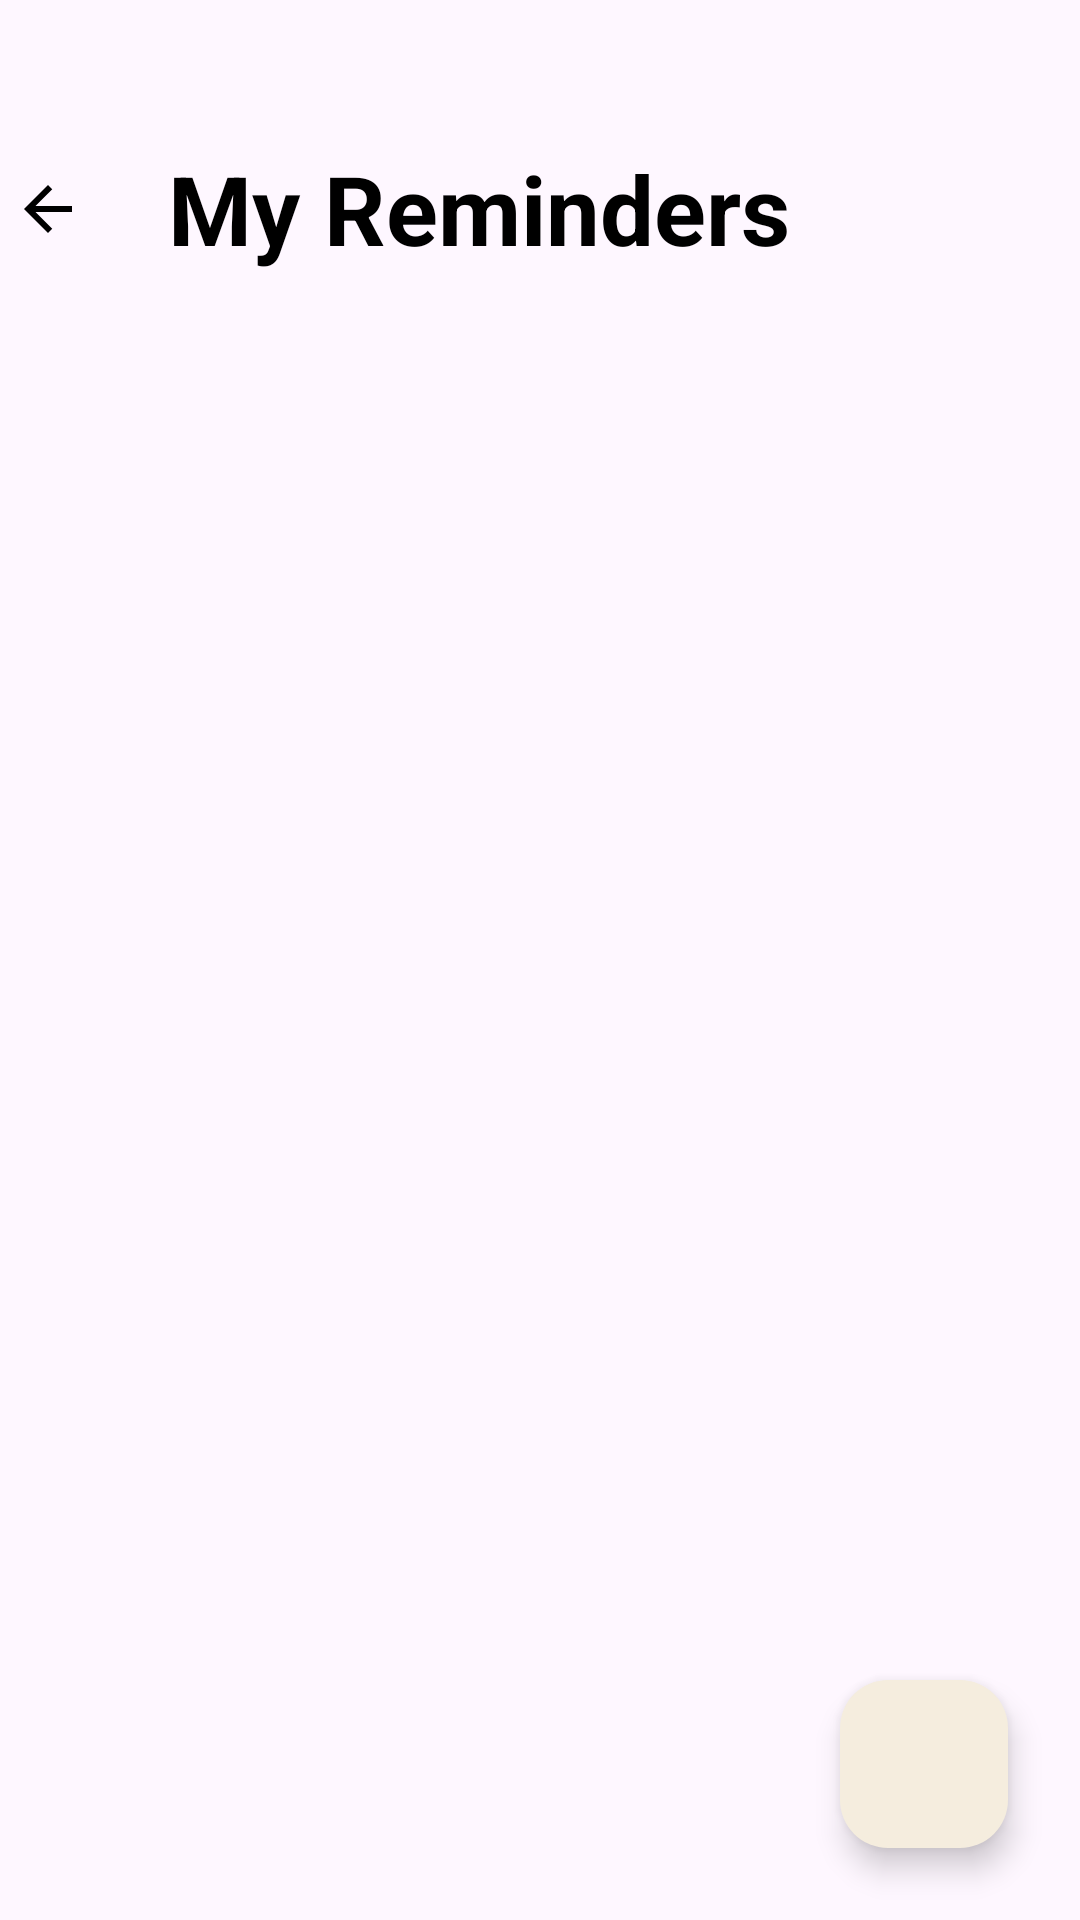

Where to tap for icons on this 1080px x 1920px app screen, as (x,y):
Back Button: (48,209)
